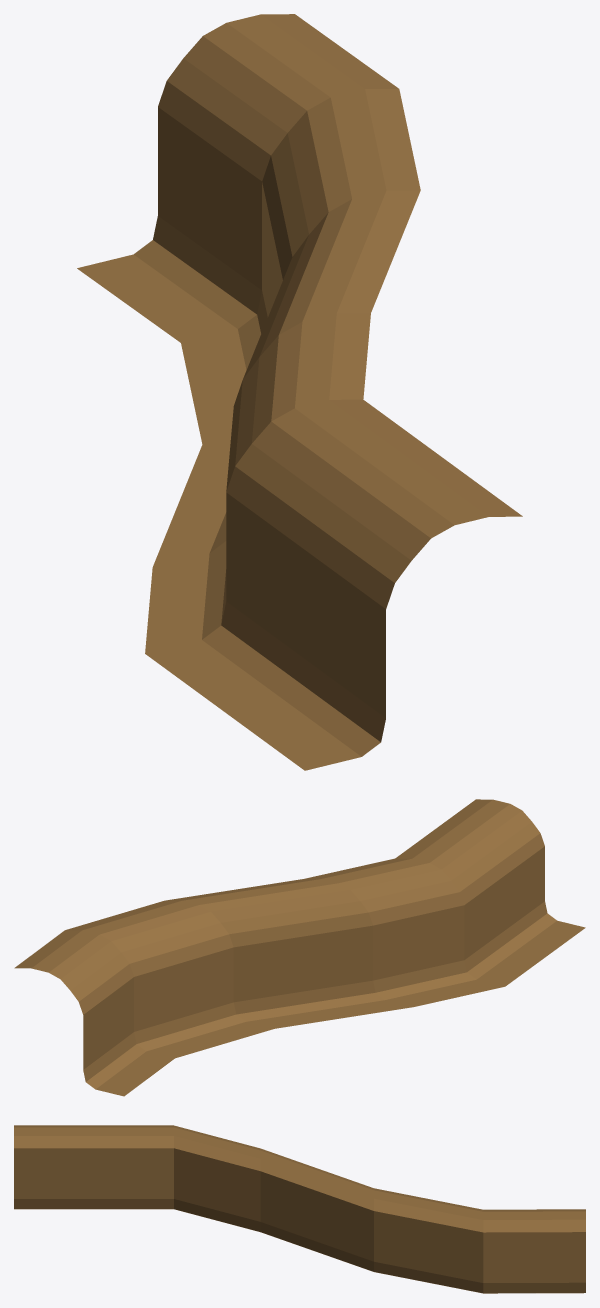
The model's file is Right.fbx.
3 renders of one model, top to bottom at view 1: azimuth 30°, elevation 25°; view 2: azimuth 150°, elevation 25°; view 3: azimuth 270°, elevation 25°, orthographic. The views are drawn at different scales.
Parts seen in each view (by area): view 1: SmToLrgR; view 2: SmToLrgR; view 3: SmToLrgR.
Boxes of the visible parts, x1,y1,x2,y2 form: SmToLrgR: (77,14,522,770); SmToLrgR: (14,799,585,1096); SmToLrgR: (14,1125,585,1293).
Bounding box in the file's own units: 822 × 291 × 1444.
